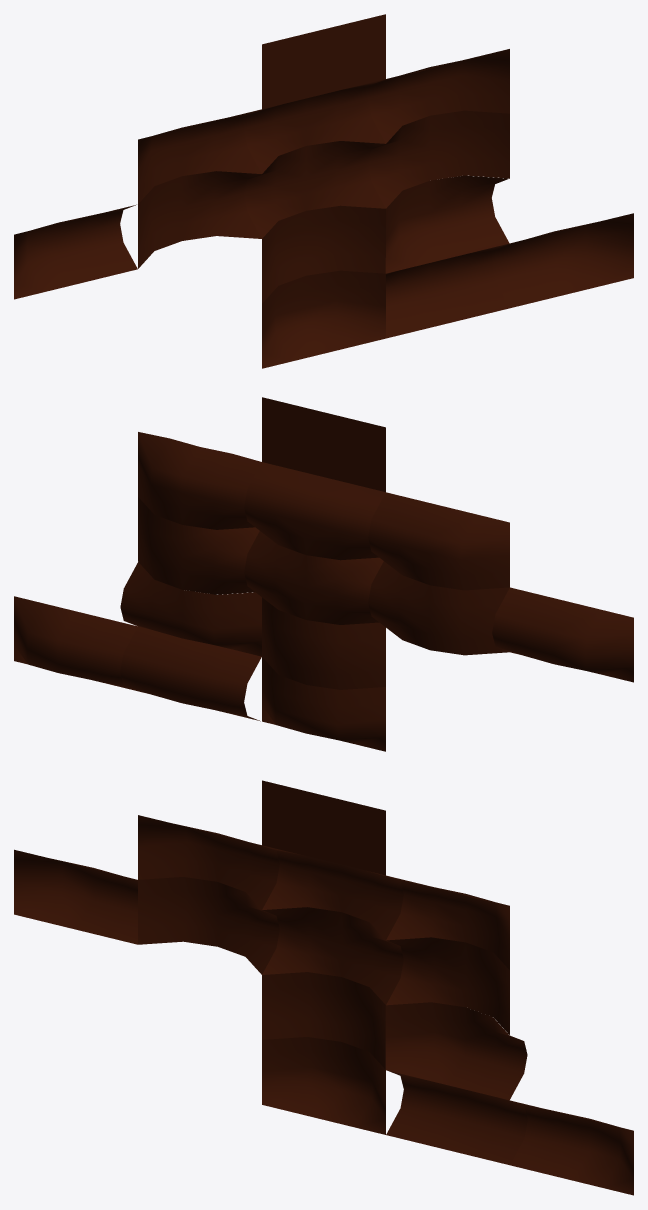
The model's file is Walls.2024.09.5.fbx.
The picture shows the model from 3 angles, top to bottom: view 1: azimuth 30°, elevation 25°; view 2: azimuth 150°, elevation 25°; view 3: azimuth 330°, elevation 25°; orthographic projection.
Parts seen in each view (by area): view 1: WallsN 1Way Top, WallsN 1Way Left, WallsN 3Way Left Top Bottom, WallsN 2Way Rightn Top, WallsN 4Way, WallsN Flat, WallsN 2Way Top Bottom, WallsN 2Way Left Bottom, WallsN 1Way Right, WallsN 3Way Right Top Bottom, WallsN 2Way Left Right, WallsN 3Way Left Right Bottom (+1 smaller); view 2: WallsN 2Way Right Bottom, WallsN 3Way Left Right Bottom, WallsN 1Way Right, WallsN 2Way Left Bottom, WallsN 3Way Right Top Bottom, WallsN 2Way Left Right, WallsN 4Way, WallsN Flat, WallsN 2Way Top Bottom, WallsN 2Way Rightn Top, WallsN 1Way Left, WallsN 3Way Left Top Bottom (+1 smaller); view 3: WallsN 2Way Rightn Top, WallsN 1Way Top, WallsN 3Way Right Top Bottom, WallsN 1Way Right, WallsN 4Way, WallsN 2Way Left Right, WallsN 2Way Top Bottom, WallsN Flat, WallsN 2Way Right Bottom, WallsN 1Way Left, WallsN 3Way Left Top Bottom, WallsN 3Way Left Right Bottom (+1 smaller).
Boxes of the visible parts, left/top/right/bottom form: WallsN 1Way Top: left=262, top=270, right=385, bottom=368; WallsN 1Way Left: left=492, top=213, right=633, bottom=308; WallsN 3Way Left Top Bottom: left=368, top=110, right=509, bottom=208; WallsN 2Way Rightn Top: left=385, top=175, right=509, bottom=273; WallsN 4Way: left=244, top=141, right=385, bottom=238; WallsN Flat: left=262, top=14, right=385, bottom=109; WallsN 2Way Top Bottom: left=262, top=205, right=385, bottom=303; WallsN 2Way Left Bottom: left=368, top=49, right=509, bottom=143; WallsN 1Way Right: left=14, top=204, right=137, bottom=299; WallsN 3Way Right Top Bottom: left=138, top=171, right=261, bottom=268; WallsN 2Way Left Right: left=386, top=243, right=509, bottom=338; WallsN 3Way Left Right Bottom: left=244, top=79, right=385, bottom=173; WallsN 2Way Right Bottom: left=368, top=492, right=509, bottom=590; WallsN 3Way Left Right Bottom: left=244, top=462, right=385, bottom=560; WallsN 1Way Right: left=492, top=587, right=633, bottom=682; WallsN 2Way Left Bottom: left=138, top=432, right=261, bottom=529; WallsN 3Way Right Top Bottom: left=368, top=561, right=509, bottom=655; WallsN 2Way Left Right: left=120, top=626, right=261, bottom=721; WallsN 4Way: left=244, top=531, right=383, bottom=624; WallsN Flat: left=262, top=397, right=385, bottom=492; WallsN 2Way Top Bottom: left=262, top=597, right=385, bottom=689; WallsN 2Way Rightn Top: left=120, top=562, right=261, bottom=656; WallsN 1Way Left: left=14, top=596, right=137, bottom=690; WallsN 3Way Left Top Bottom: left=138, top=497, right=259, bottom=594; WallsN 2Way Rightn Top: left=385, top=1002, right=527, bottom=1100; WallsN 1Way Top: left=262, top=1037, right=385, bottom=1134; WallsN 3Way Right Top Bottom: left=138, top=877, right=279, bottom=974; WallsN 1Way Right: left=14, top=849, right=137, bottom=944; WallsN 4Way: left=262, top=907, right=403, bottom=1004; WallsN 2Way Left Right: left=386, top=1070, right=527, bottom=1165; WallsN 2Way Top Bottom: left=262, top=972, right=385, bottom=1069; WallsN Flat: left=262, top=780, right=385, bottom=875; WallsN 2Way Right Bottom: left=138, top=815, right=279, bottom=909; WallsN 1Way Left: left=510, top=1100, right=633, bottom=1195; WallsN 3Way Left Top Bottom: left=386, top=937, right=509, bottom=1034; WallsN 3Way Left Right Bottom: left=262, top=845, right=403, bottom=939.
Size of the model in its own units: 16000 by 8000 by 851.
